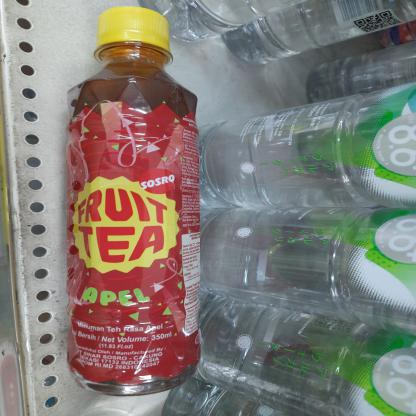bottle: (61, 3, 209, 403)
